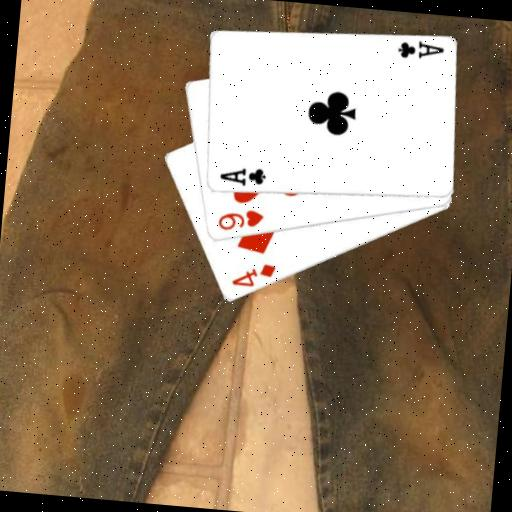4D: (228, 259, 278, 292)
9H: (214, 204, 266, 236)
AC: (216, 162, 268, 190), (393, 37, 445, 64)
